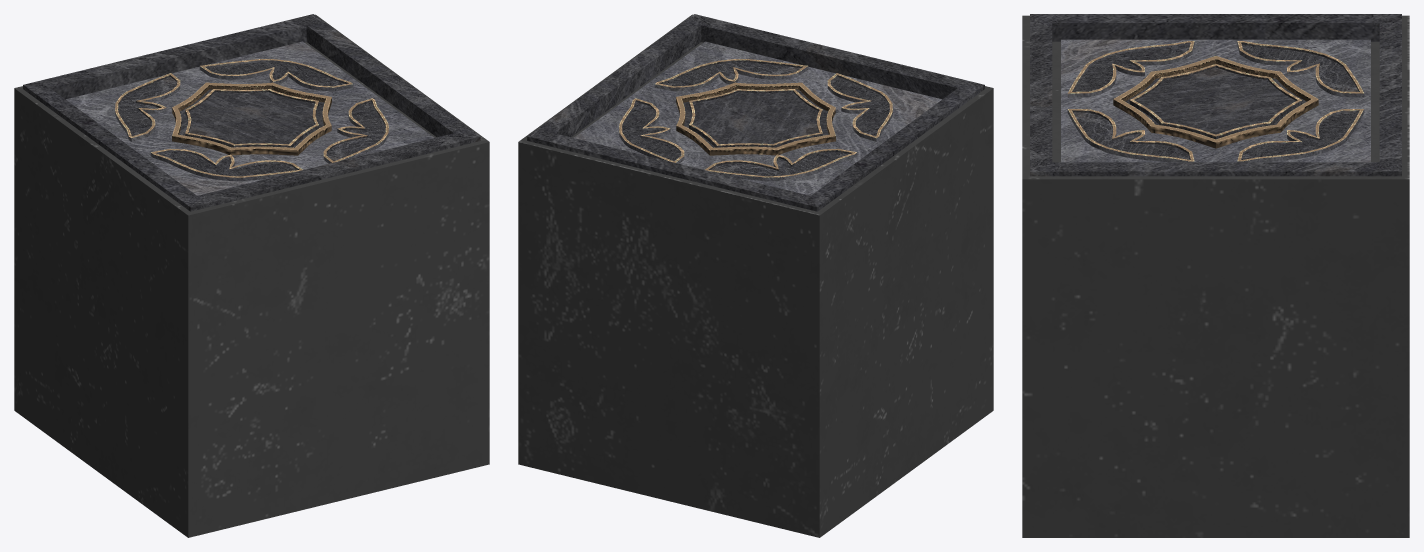
Rendered from tile.fbx.
3 views of the same model, side by side, from view 1: azimuth 30°, elevation 25°; view 2: azimuth 150°, elevation 25°; view 3: azimuth 270°, elevation 25° (orthographic). The views are drawn at different scales.
Visible parts, largest first — view 1: tile; view 2: tile; view 3: tile.
Part boxes in pixels (x1,y1,x2,y2): tile: (14, 14, 489, 537); tile: (518, 14, 993, 537); tile: (1022, 14, 1409, 537).
Bounding box in the file's own units: 200 × 207 × 200.
Materials: 1 (1 with a texture image).
